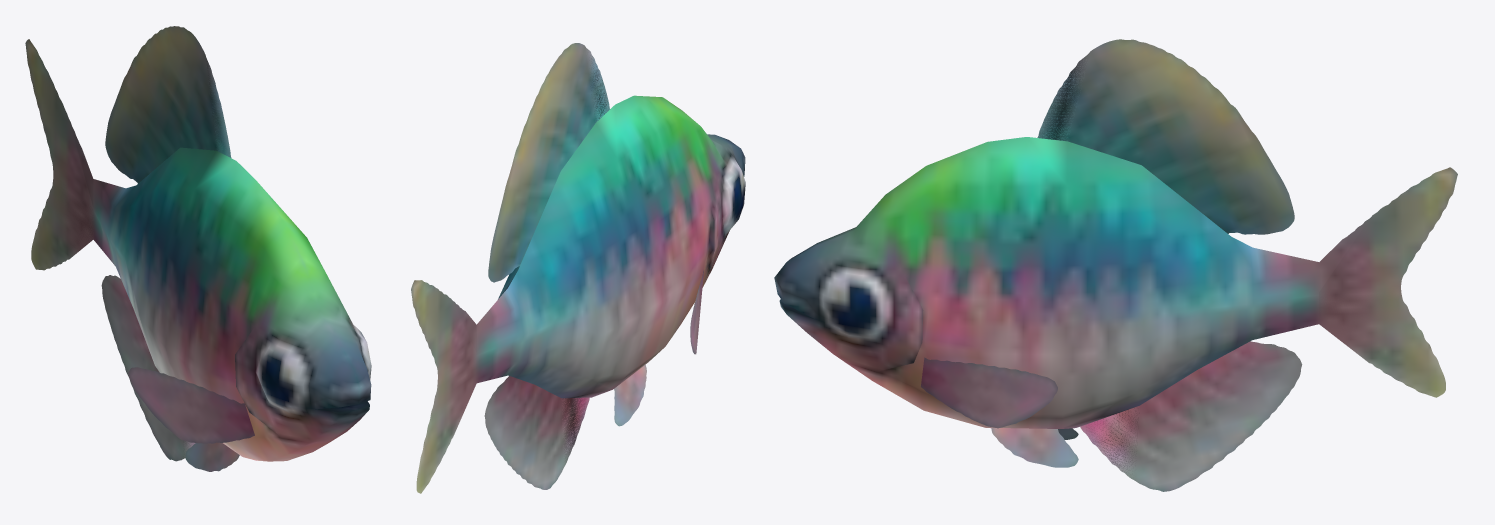
The model's file is bitterling.glb.
3 renders of one model, left to right at view 1: azimuth 30°, elevation 25°; view 2: azimuth 150°, elevation 25°; view 3: azimuth 270°, elevation 25°, orthographic. The views are drawn at different scales.
Bounding box in the file's own units: 1.03 × 2.43 × 3.13.
1 material, 1 textured.
